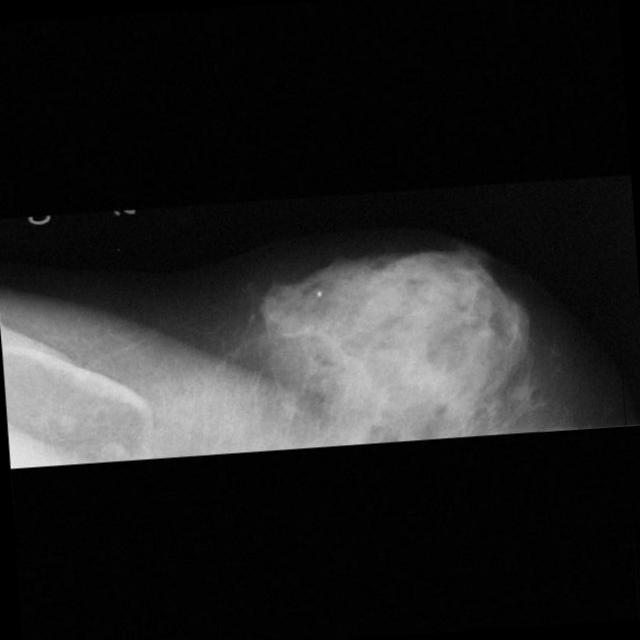CALC: (321, 306, 358, 344)
